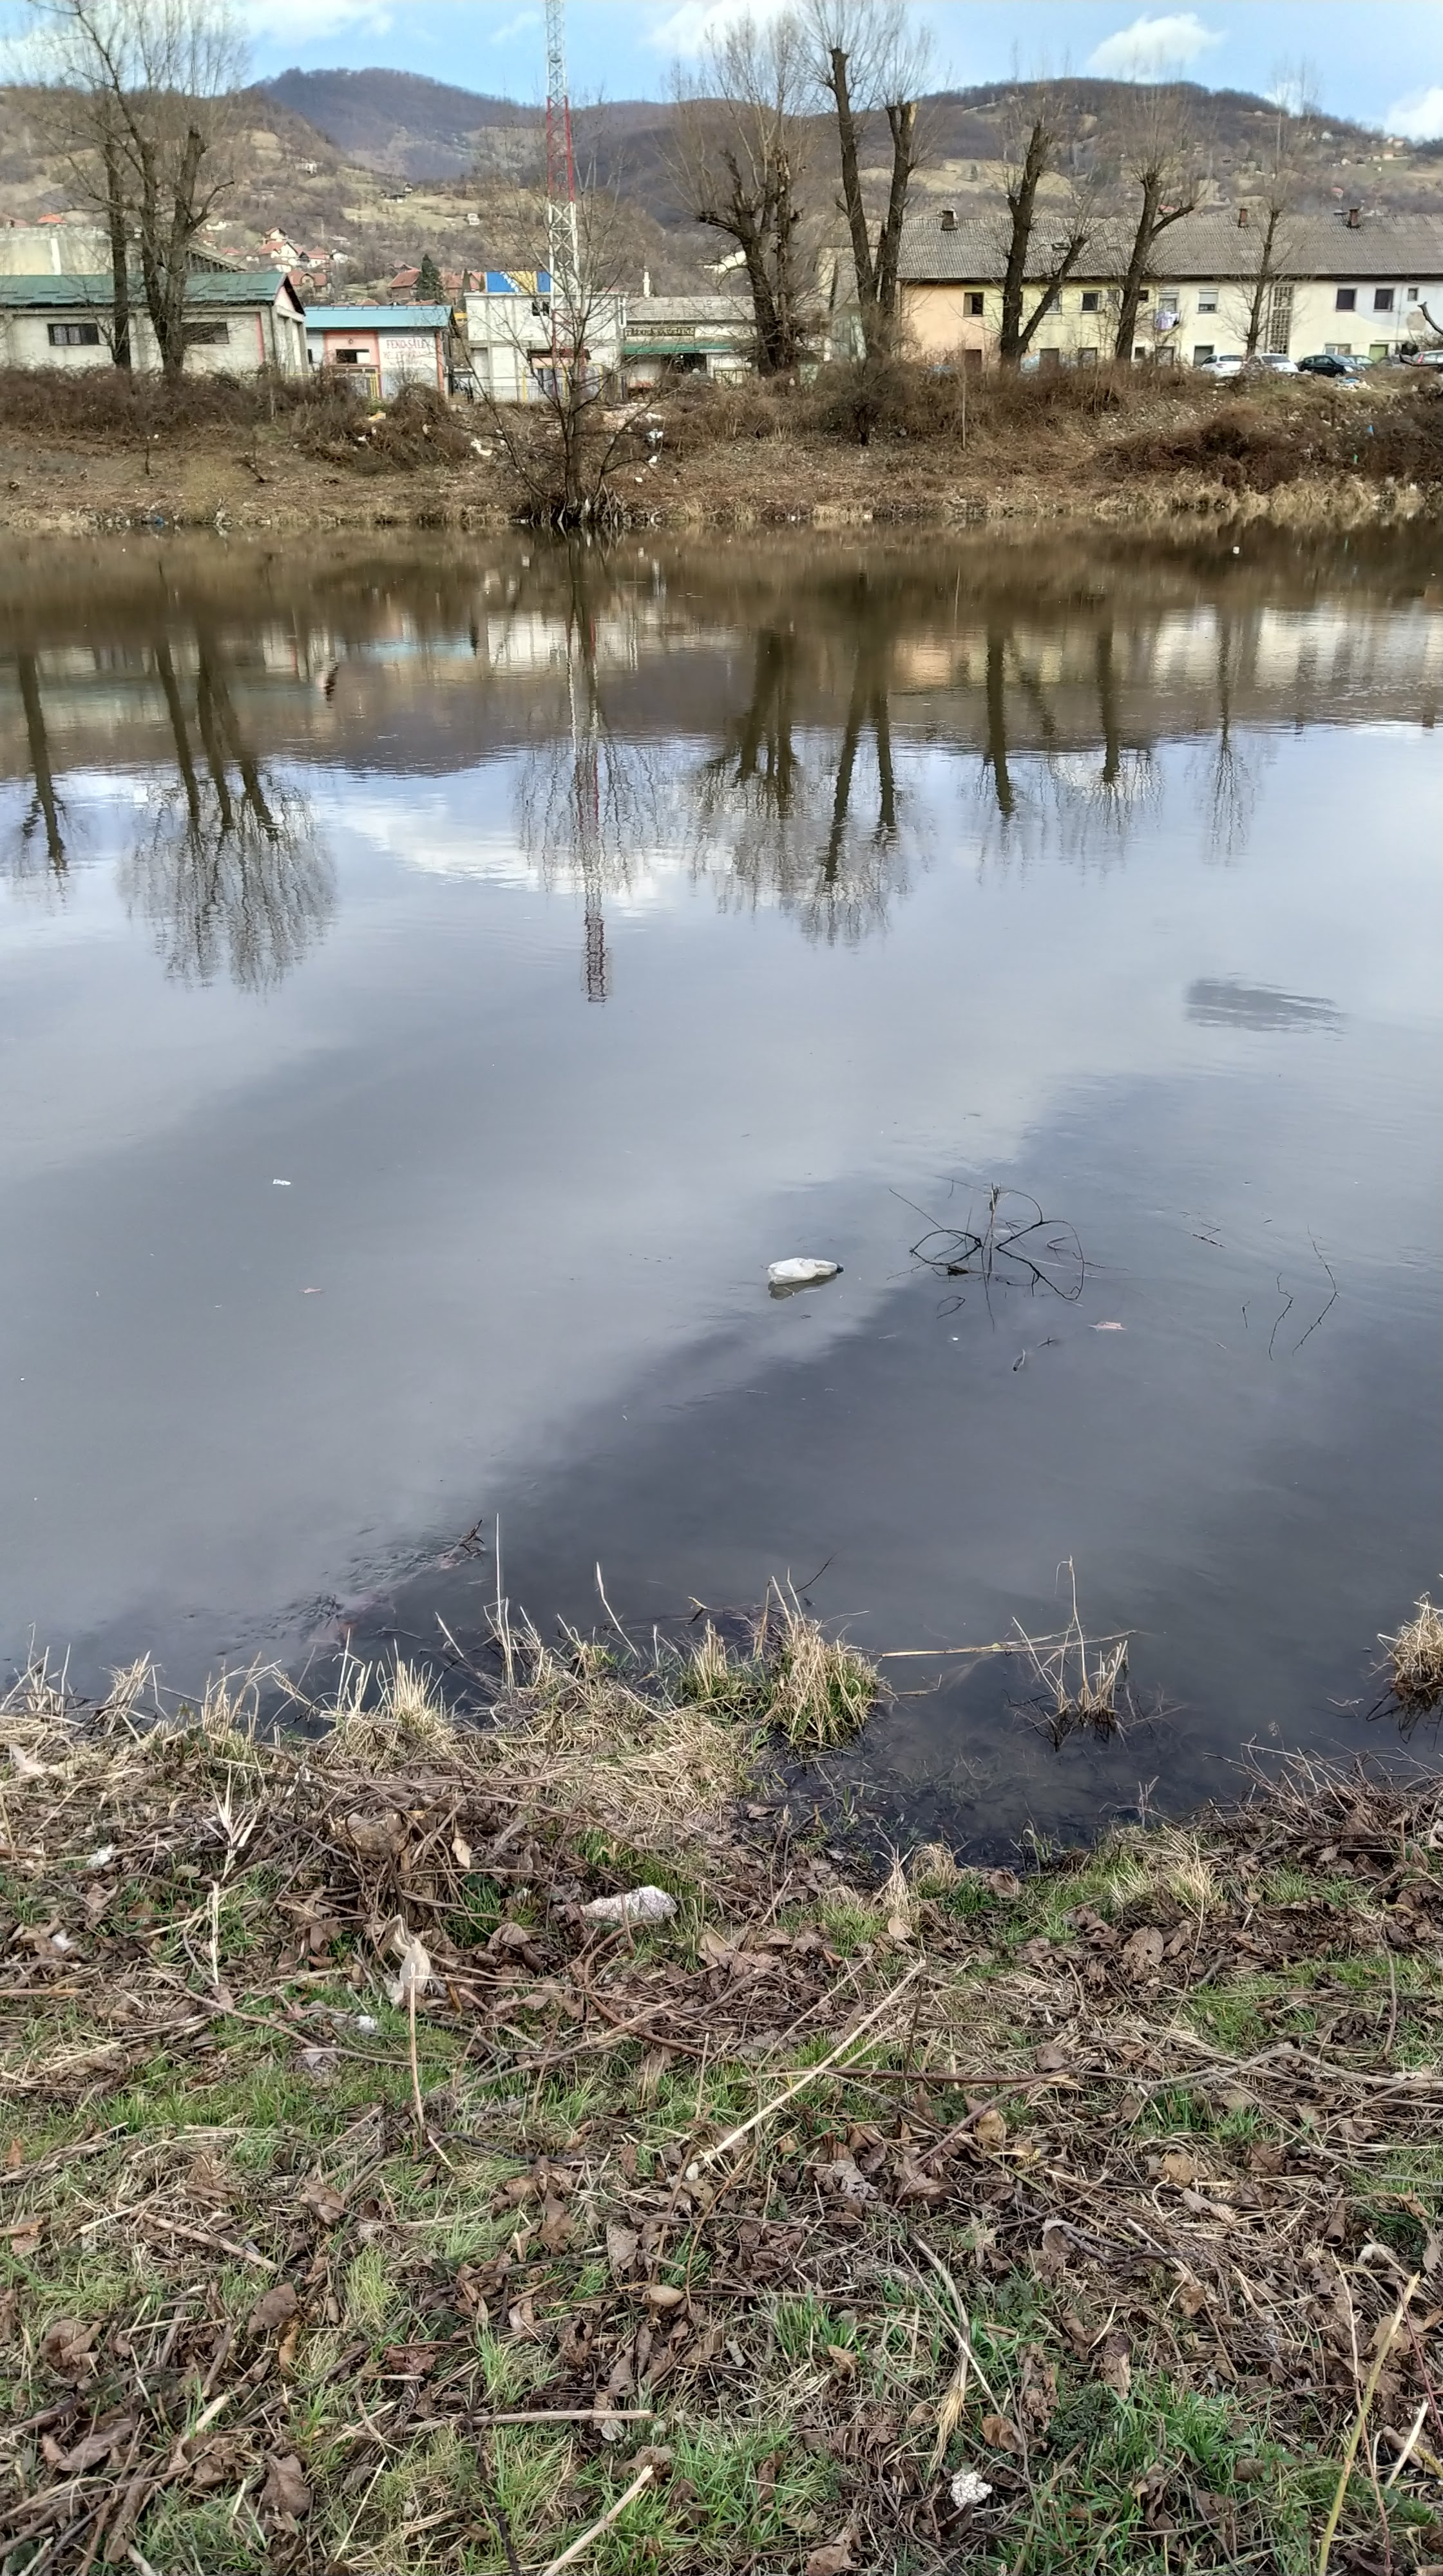Plastic Bottle: (767, 1258, 845, 1284), (1234, 547, 1238, 552)
